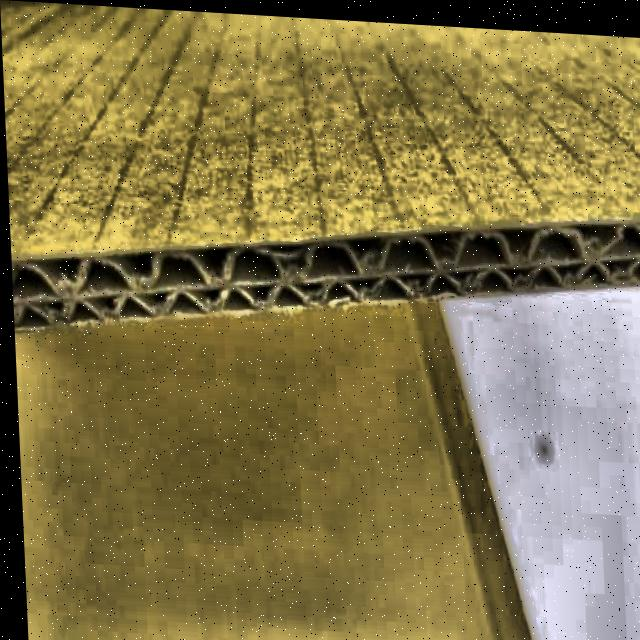cardboard: (13, 270, 556, 640)
